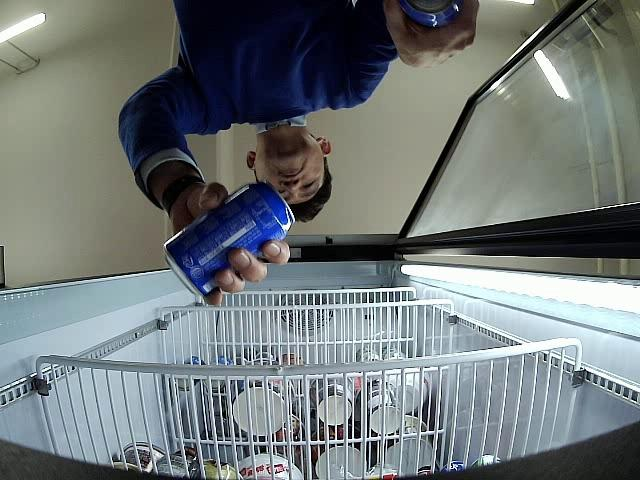00_hand: (171, 183, 290, 308), (384, 0, 480, 69)
13_pocariSweat: (164, 181, 295, 297), (398, 0, 462, 29)
